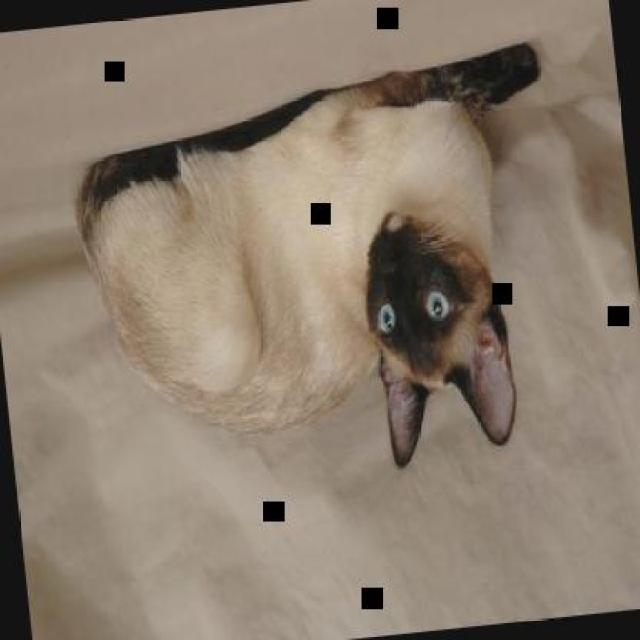cat: (60, 38, 578, 502)
